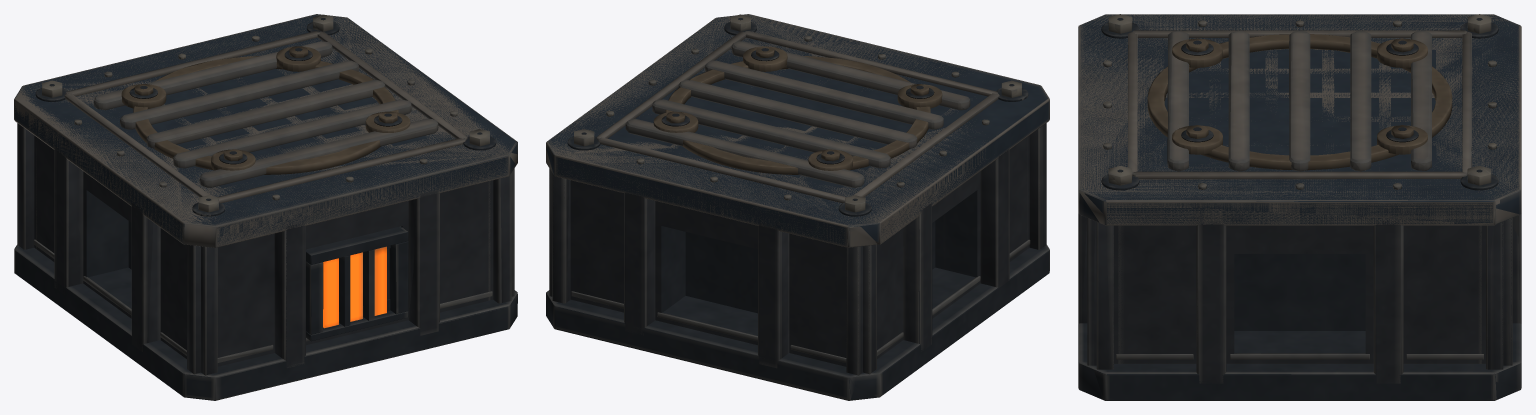
The model's file is chapter3_tiles.glb.
3 views of the same model, side by side, from view 1: azimuth 30°, elevation 25°; view 2: azimuth 150°, elevation 25°; view 3: azimuth 270°, elevation 25° (orthographic). The views are drawn at different scales.
Parts seen in each view (by area): view 1: build_tile, grate_tile, path_tile, panel_vent, plain_build_tile, panel_solid; view 2: build_tile, grate_tile, path_tile, plain_build_tile; view 3: build_tile, grate_tile, path_tile, plain_build_tile.
Boxes of the visible parts, bbox=[...] form: build_tile: bbox=[14, 14, 517, 400]; grate_tile: bbox=[14, 14, 517, 400]; path_tile: bbox=[14, 15, 514, 397]; panel_vent: bbox=[306, 226, 408, 341]; plain_build_tile: bbox=[60, 98, 501, 355]; panel_solid: bbox=[306, 226, 402, 322]; build_tile: bbox=[546, 14, 1049, 400]; grate_tile: bbox=[546, 14, 1049, 399]; path_tile: bbox=[546, 17, 1049, 400]; plain_build_tile: bbox=[553, 128, 1039, 374]; build_tile: bbox=[1078, 14, 1521, 400]; grate_tile: bbox=[1078, 14, 1521, 400]; path_tile: bbox=[1078, 16, 1521, 400]; plain_build_tile: bbox=[1102, 30, 1511, 374].
Size of the model in its own units: 1 by 0.5535 by 1.
1 material, 1 textured.
